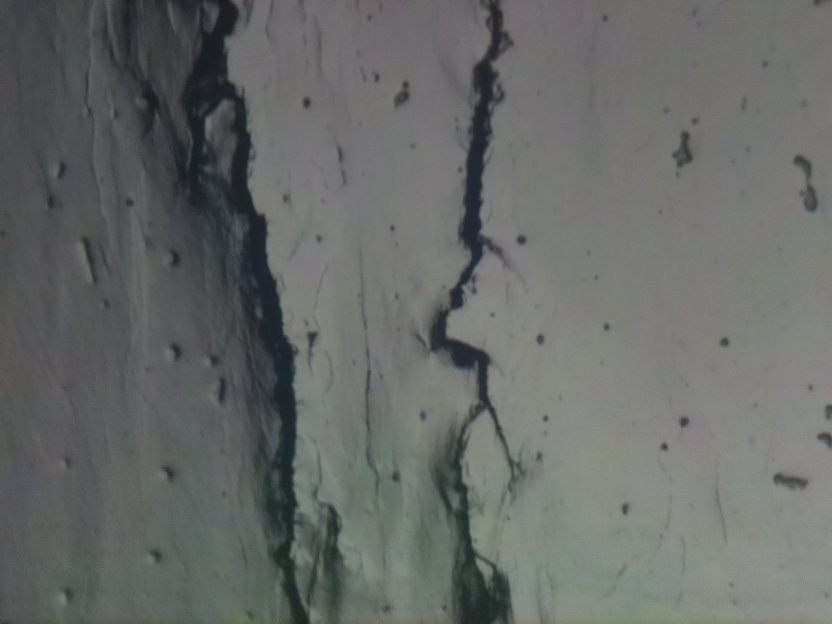crack: (182, 0, 310, 624), (428, 0, 515, 624)
